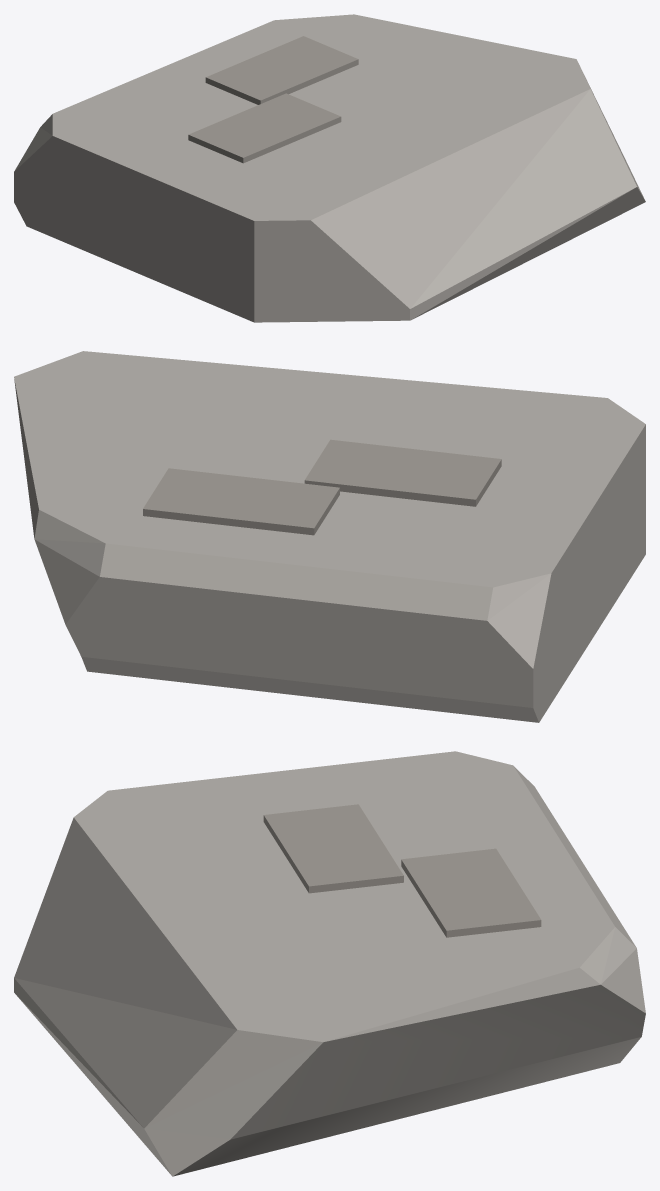
The model's file is Wall 12.FBX.
3 views of the same model, one above another, from view 1: azimuth 30°, elevation 25°; view 2: azimuth 150°, elevation 25°; view 3: azimuth 270°, elevation 25° (orthographic). The views are drawn at different scales.
Visible parts, largest first — view 1: Wall 12; view 2: Wall 12; view 3: Wall 12.
Part boxes in pixels (x1=…): Wall 12: x1=14, y1=14, x2=645, y2=322; Wall 12: x1=14, y1=351, x2=645, y2=722; Wall 12: x1=14, y1=751, x2=645, y2=1176.
Bounding box in the file's own units: 246 × 53.58 × 215.
1 material, 1 textured.
